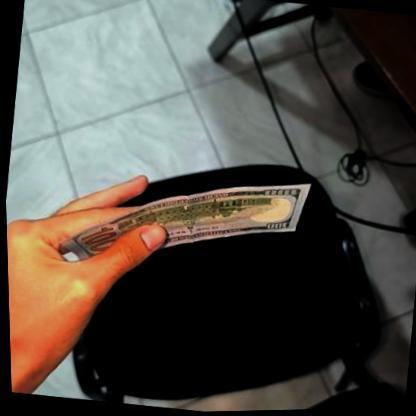one_hundred-back: (72, 157, 312, 281)
